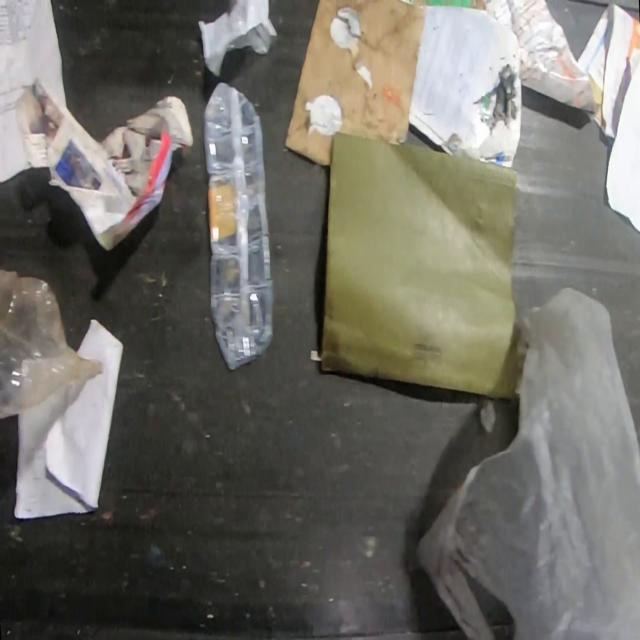cardboard: (318, 133, 521, 399), (284, 0, 426, 167)
rigid_plastic: (204, 82, 274, 371)
soft_plastic: (416, 284, 640, 639), (0, 271, 103, 420)
